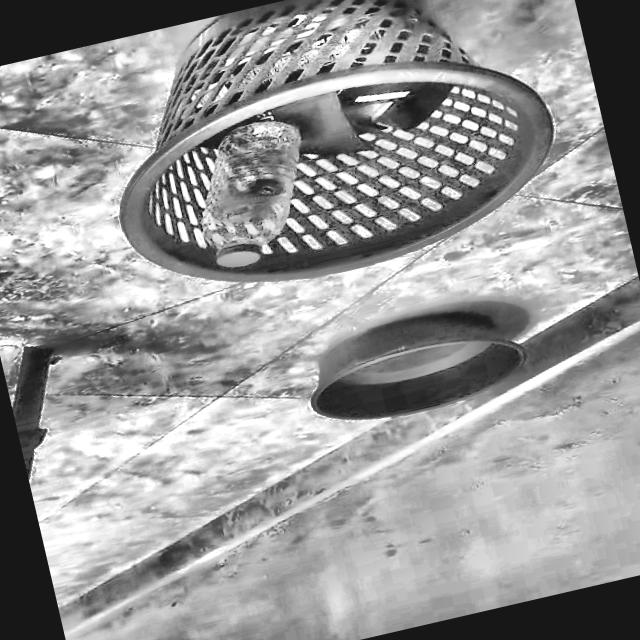Bottle-Disposed: (117, 36, 566, 302)
Dustbin: (80, 0, 598, 317)
Plastic-Bottle: (179, 109, 340, 273)
